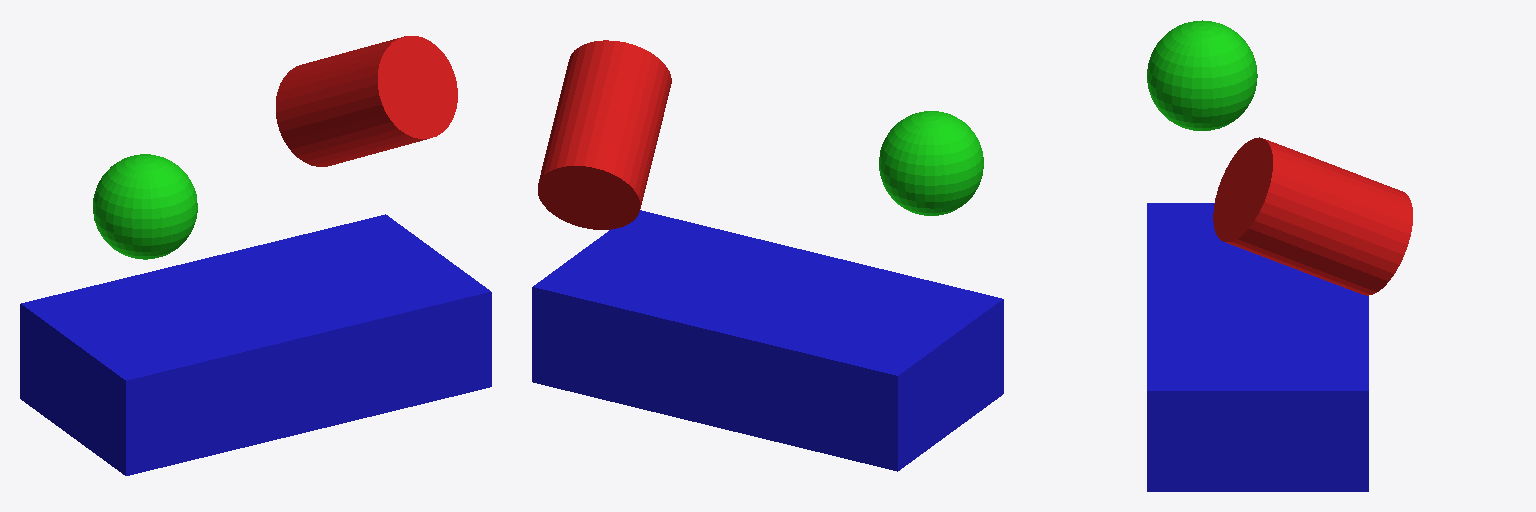
robot.urdf — two_bodies:
<robot name="two_bodies" xmlns:xacro="http://ros.org/wiki/xacro">
  <mujoco>
    <compiler 
    balanceinertia="true" 
    discardvisual="false"
    meshdir = "meshes" 
    fusestatic="false"/>
  </mujoco>

  <!-- fixed body -->
  <link name="world">  
  </link>

  <!-- body one -->
  <link name="body_one">
    <inertial>
      <origin xyz="0 0 0" rpy="0 0 0" />
      <mass value="62.4" />
      <inertia
        ixx="0.26" ixy="0" ixz="0"
        iyy="0.884" iyz="0"   
        izz="1.04" />
    </inertial>
    <visual>
      <origin xyz="0 0 0" rpy="0 0 0" />
      <geometry>
        <box size=".4 .2 .1" />
      </geometry> 
      <material name="blue">
        <color rgba=".15 0.15 .85 1"/>
      </material>
    </visual>
    <collision>
      <geometry>
          <box size=".4 .2 .1"/>
      </geometry> 
    </collision>
  </link>

  <!-- body two -->
  <link name="body_two">
    <inertial>
      <origin xyz="0 0 0" rpy="0 0 0" />
      <mass value="5" />
      <inertia
        ixx="2.94524311e-06" ixy="0" ixz="0"
        iyy="2.94524311e-06" iyz="0"   
        izz="1.47262156e-06" />
    </inertial>
    <visual>
      <origin xyz="0 0 0" rpy="0 0 0" />
      <geometry>
        <cylinder radius=".05"  length=".15" />
      </geometry> 
      <material name="red">
        <color rgba=".85 .15 .15 1"/>
      </material>
    </visual>
    <collision>
      <geometry>
        <cylinder radius=".05"  length=".15" />
      </geometry>
    </collision>
  </link>

    <!-- body three -->
  <link name="body_three">
    <inertial>
      <origin xyz="0 0 0" rpy="0 0 0" />
      <mass value="5" />
      <inertia
        ixx="2.94524311e-06" ixy="0" ixz="0"
        iyy="2.94524311e-06" iyz="0"   
        izz="1.47262156e-06" />
    </inertial>
    <visual>
      <origin xyz="0 0 0" rpy="0 0 0" />
      <geometry>
        <sphere radius=".05" />
      </geometry> 
      <material name="green">
        <color rgba=".15 .85 .15 1"/>
      </material>
    </visual>
    <collision>
      <geometry>
        <cylinder radius=".05"  length=".15" />
      </geometry>
    </collision>
  </link>

  <joint name="fixed_joint" type="fixed">
    <origin rpy="0 0 0" xyz="0 0 0"/>
    <parent link="world"/>
    <child link="body_one"/>
  </joint>

  <joint name="floating_joint_cylinder" type="floating">
    <origin rpy="1 .5 0" xyz=".15 .05 0.2"/>
    <parent link="world"/>
    <child link="body_two"/>
  </joint>

  <joint name="floating_joint_sphere" type="floating">
    <origin rpy="0 0 0" xyz="-.15 -.05 0.2"/>
    <parent link="world"/>
    <child link="body_three"/>
  </joint>

</robot>

--- Render facts (derived) ---
The picture shows the robot from 3 angles, left to right: view 1: azimuth 30°, elevation 25°; view 2: azimuth 150°, elevation 25°; view 3: azimuth 270°, elevation 25°; orthographic projection.
Robot: two_bodies — 4 links, 3 joints (1 fixed, 2 floating); root link world; default pose: all joints at 0.
Visible links, largest first — view 1: body_one, body_two, body_three; view 2: body_one, body_two, body_three; view 3: body_one, body_two, body_three.
Link boxes in pixels (box(x1,y1,x2,y2)): body_one: box(20, 214, 491, 475); body_two: box(276, 36, 457, 166); body_three: box(93, 154, 197, 259); body_one: box(532, 210, 1003, 471); body_two: box(538, 40, 671, 229); body_three: box(879, 111, 983, 215); body_one: box(1147, 203, 1368, 491); body_two: box(1213, 137, 1412, 295); body_three: box(1147, 20, 1257, 130).
Size in the robot's own frame: 0.4177 by 0.2401 by 0.3296 metres.
Geometry: primitives only (box / cylinder / sphere), no mesh files.